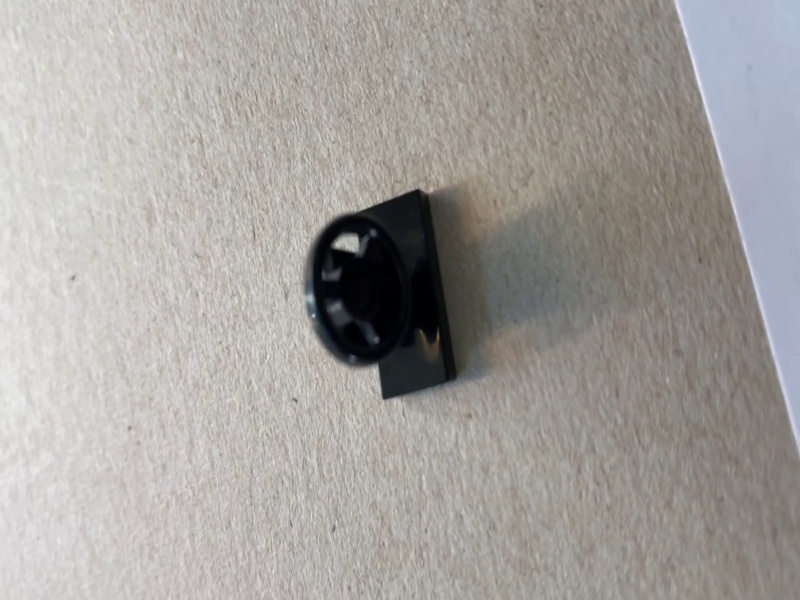steering wheel: (303, 189, 458, 402)
